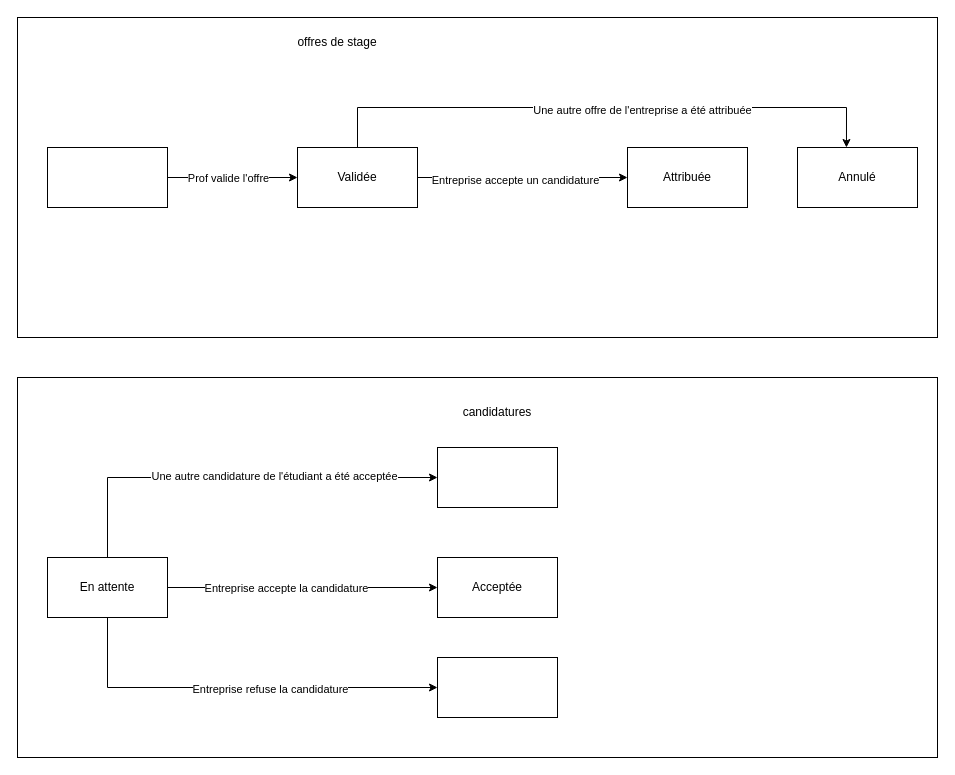
Some shapes in this 955 by 775 pixel diagram are drawn without their labels. Here are the shapes that lost their labels. From the top down, the box of each, then its label:
(46, 146, 168, 208): Non Validée
(436, 446, 558, 508): Annulée
(436, 656, 558, 718): Refusée
